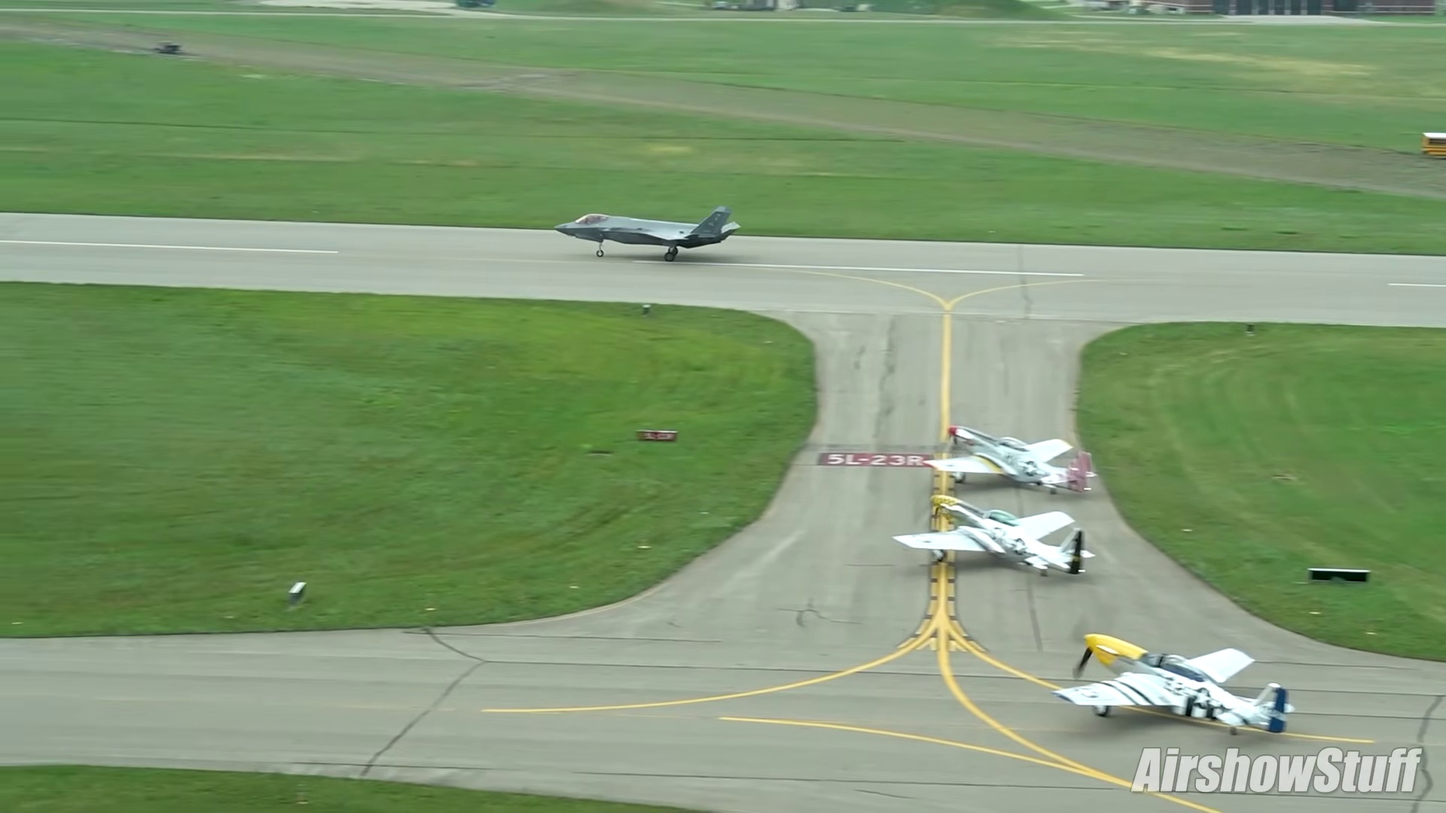F35: (552, 198, 749, 278)
